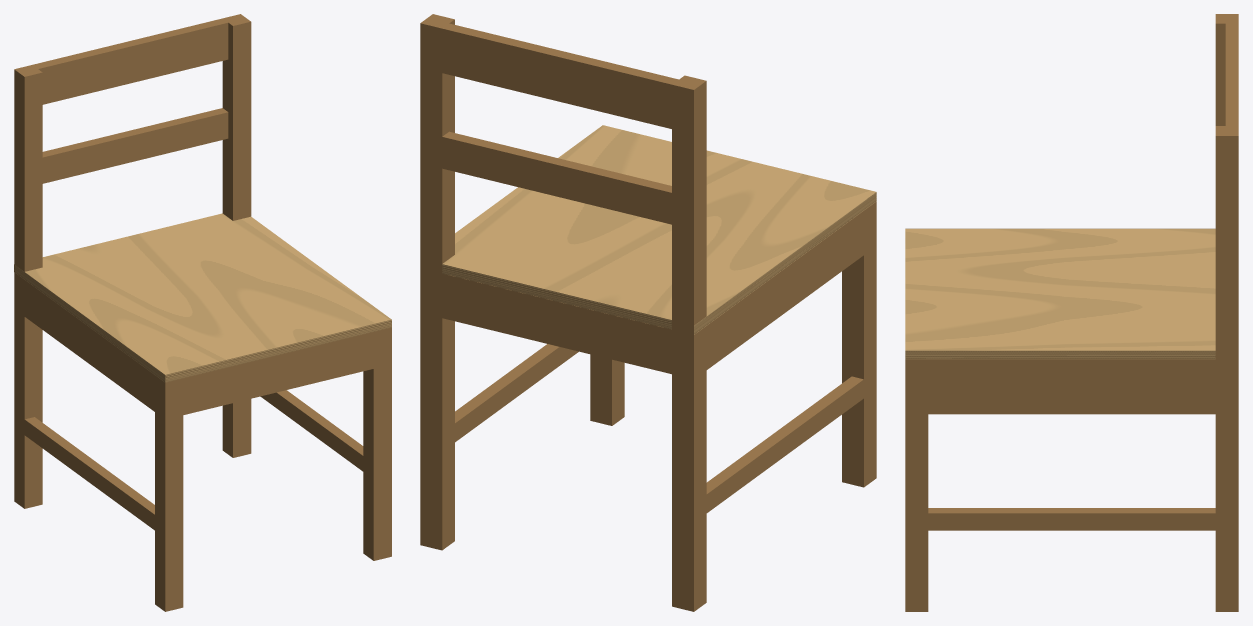
The model's file is HIN-DCH-std.glb.
3 views of the same model, side by side, from view 1: azimuth 30°, elevation 25°; view 2: azimuth 150°, elevation 25°; view 3: azimuth 270°, elevation 25° (orthographic). The views are drawn at different scales.
Visible parts, largest first — view 1: seat:sheet:eyJtIjoicGx5Iiwic2lkZSI6ImZhY2UiLCJzZWVkIjo2LCJ2Z, leg-bl:pbr, back-top:pbr, leg-br:pbr, rail-f:pbr, leg-fl:pbr, leg-fr:pbr, back-mid:pbr, rail-l:pbr, stretcher-l:pbr, stretcher-r:pbr, seat:sheet:eyJtIjoicGx5Iiwic2lkZSI6ImVkZ2UtZW5kIiwic2VlZCI6N (+1 smaller); view 2: seat:sheet:eyJtIjoicGx5Iiwic2lkZSI6ImZhY2UiLCJzZWVkIjo2LCJ2Z, leg-bl:pbr, leg-br:pbr, back-top:pbr, rail-b:pbr, back-mid:pbr, leg-fl:pbr, rail-l:pbr, stretcher-l:pbr, stretcher-r:pbr, seat:sheet:eyJtIjoicGx5Iiwic2lkZSI6ImVkZ2UtZW5kIiwic2VlZCI6N, leg-fr:pbr (+1 smaller); view 3: seat:sheet:eyJtIjoicGx5Iiwic2lkZSI6ImZhY2UiLCJzZWVkIjo2LCJ2Z, rail-r:pbr, leg-br:pbr, stretcher-r:pbr, leg-fr:pbr, stretcher-l:pbr, seat:sheet:eyJtIjoicGx5Iiwic2lkZSI6ImVkZ2UtbG9uZyIsInNlZWQiO, back-top:pbr, leg-bl:pbr.
Part boxes in pixels (box(x1,y1,x2,y2)): seat:sheet:eyJtIjoicGx5Iiwic2lkZSI6ImZhY2UiLCJzZWVkIjo2LCJ2Z: box(25, 213, 391, 374); leg-bl:pbr: box(14, 65, 42, 508); back-top:pbr: box(32, 18, 228, 104); leg-br:pbr: box(222, 14, 251, 457); rail-f:pbr: box(183, 332, 373, 414); leg-fl:pbr: box(155, 375, 183, 611); leg-fr:pbr: box(363, 327, 391, 560); back-mid:pbr: box(42, 108, 228, 183); rail-l:pbr: box(24, 280, 154, 411); stretcher-l:pbr: box(24, 417, 154, 530); stretcher-r:pbr: box(260, 390, 363, 471); seat:sheet:eyJtIjoicGx5Iiwic2lkZSI6ImVkZ2UtZW5kIiwic2VlZCI6N: box(165, 319, 391, 382); seat:sheet:eyJtIjoicGx5Iiwic2lkZSI6ImZhY2UiLCJzZWVkIjo2LCJ2Z: box(442, 125, 875, 319); leg-bl:pbr: box(672, 75, 706, 611); leg-br:pbr: box(420, 14, 454, 550); back-top:pbr: box(442, 23, 678, 128); rail-b:pbr: box(442, 273, 671, 374); back-mid:pbr: box(442, 131, 671, 224); leg-fl:pbr: box(842, 202, 876, 487); rail-l:pbr: box(706, 211, 863, 369); stretcher-l:pbr: box(706, 376, 863, 512); stretcher-r:pbr: box(455, 344, 578, 442); seat:sheet:eyJtIjoicGx5Iiwic2lkZSI6ImVkZ2UtZW5kIiwic2VlZCI6N: box(442, 264, 671, 329); leg-fr:pbr: box(590, 354, 624, 425); seat:sheet:eyJtIjoicGx5Iiwic2lkZSI6ImZhY2UiLCJzZWVkIjo2LCJ2Z: box(905, 229, 1215, 350); rail-r:pbr: box(928, 359, 1215, 399); leg-br:pbr: box(1215, 126, 1238, 611); stretcher-r:pbr: box(928, 508, 1215, 530); leg-fr:pbr: box(905, 359, 928, 611); stretcher-l:pbr: box(928, 400, 1215, 414); seat:sheet:eyJtIjoicGx5Iiwic2lkZSI6ImVkZ2UtbG9uZyIsInNlZWQiO: box(905, 228, 1215, 359); back-top:pbr: box(1225, 23, 1238, 125); leg-bl:pbr: box(1215, 14, 1238, 125).
Bounding box in the file's own units: 0.4501 × 0.82 × 0.52.
Materials: 15 (3 with a texture image).
